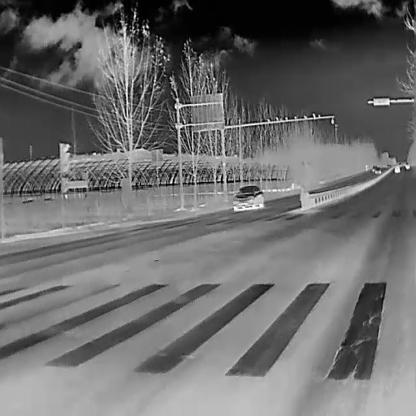car: (231, 185, 264, 212), (393, 164, 401, 173), (374, 166, 381, 174), (371, 164, 377, 172), (404, 163, 410, 170)
